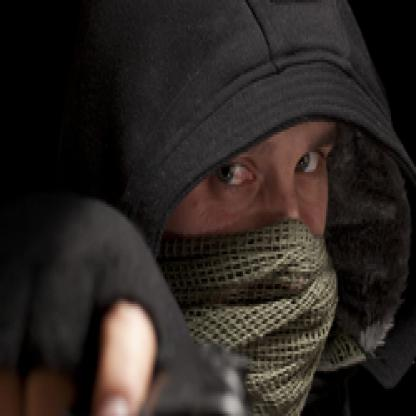gun: (40, 307, 265, 414)
